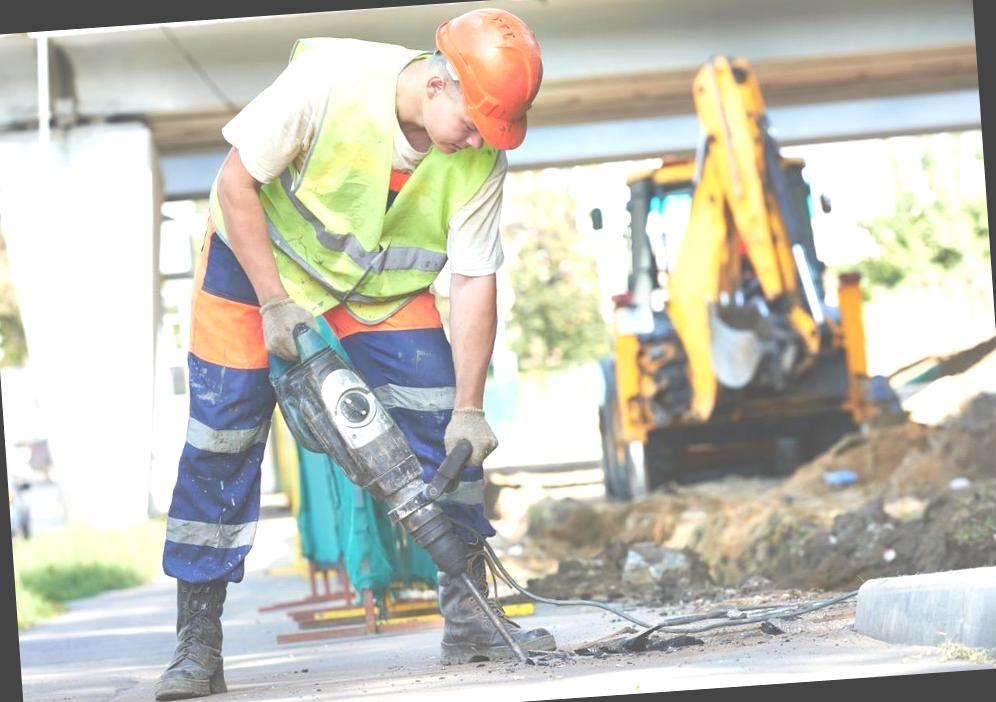helmet: (434, 11, 553, 158)
person: (176, 1, 588, 650)
